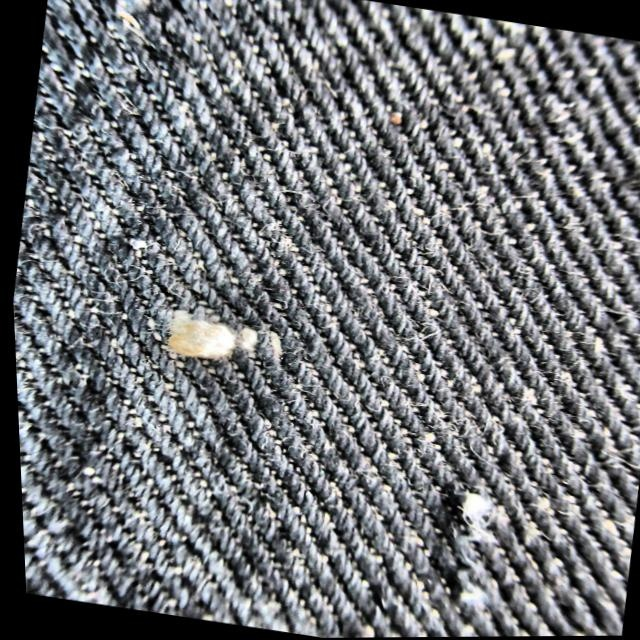Hole: (122, 277, 305, 400), (409, 480, 516, 623), (168, 314, 273, 364)
